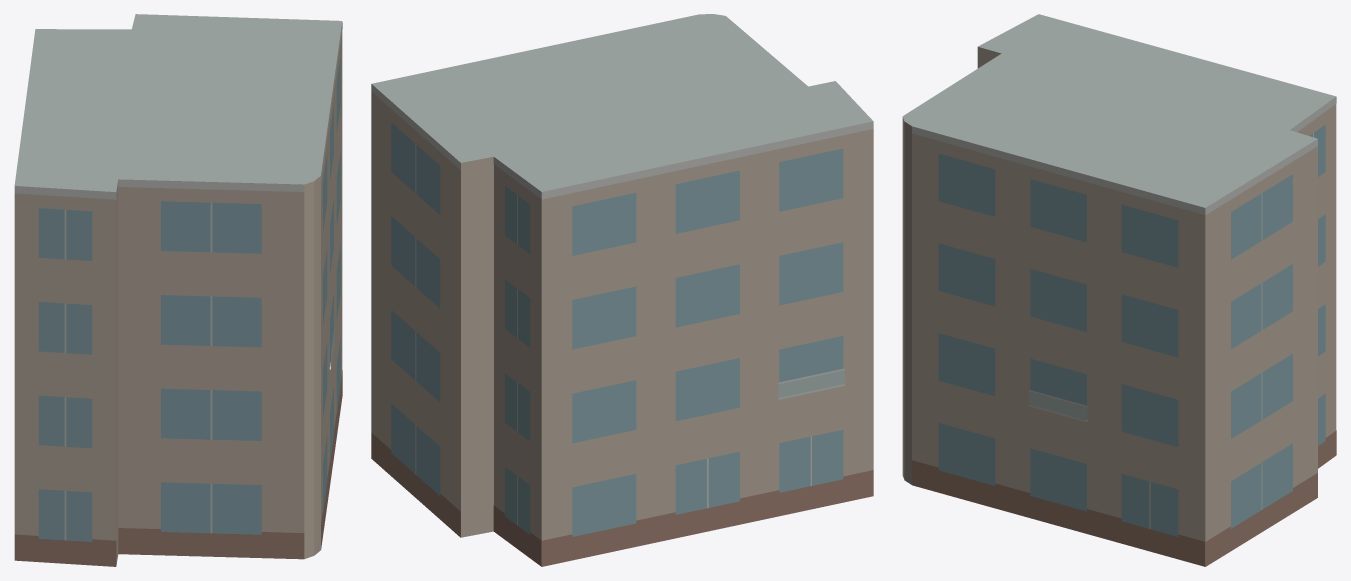
The model's file is survey-upis-32668811.glb.
The picture shows the model from 3 angles, left to right: view 1: azimuth 30°, elevation 25°; view 2: azimuth 150°, elevation 25°; view 3: azimuth 270°, elevation 25°; orthographic projection. The views are drawn at different scales.
Visible parts, largest first — view 1: survey-upis-32668811.tmp; view 2: survey-upis-32668811.tmp; view 3: survey-upis-32668811.tmp.
Part boxes in pixels (bbox=[...]): survey-upis-32668811.tmp: bbox=[14, 14, 342, 566]; survey-upis-32668811.tmp: bbox=[371, 14, 873, 566]; survey-upis-32668811.tmp: bbox=[902, 14, 1336, 566].
Bounding box in the file's own units: 14.15 × 12.2 × 13.38.
